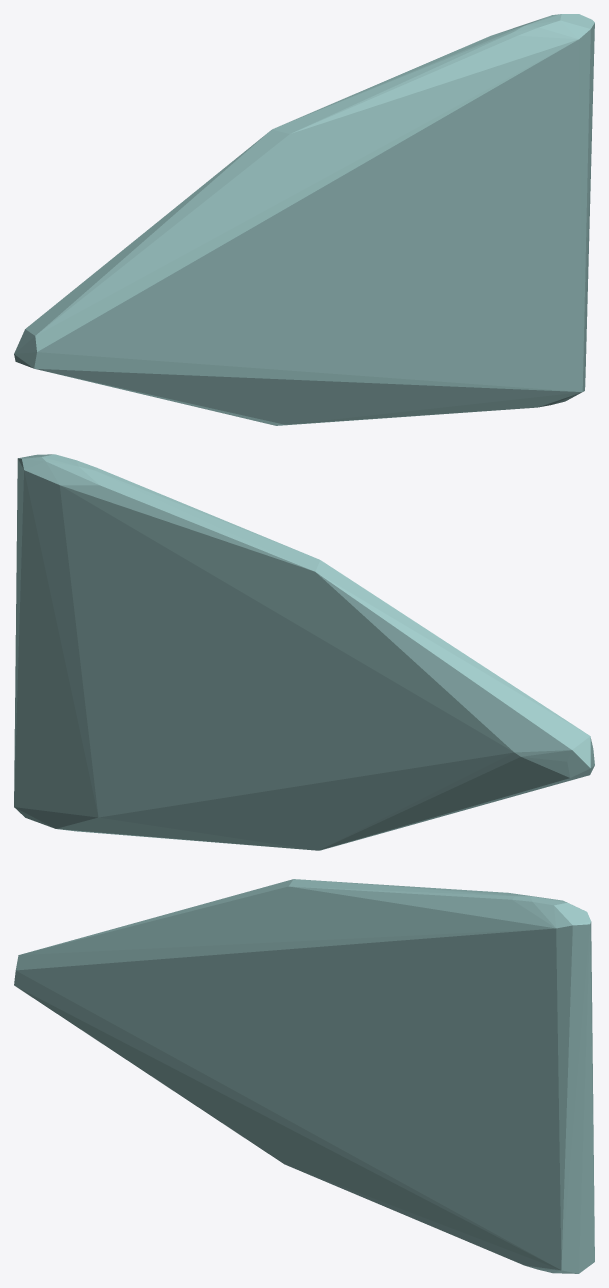
The model's file is instrument_bone_rongeurs_curved_b01.glb.
3 renders of one model, top to bottom at view 1: azimuth 30°, elevation 25°; view 2: azimuth 150°, elevation 25°; view 3: azimuth 330°, elevation 25°, orthographic. The views are drawn at different scales.
Visible parts, largest first — view 1: geometry_0; view 2: geometry_0; view 3: geometry_0.
Part boxes in pixels (x1,y1,x2,y2): geometry_0: [14, 14, 594, 425]; geometry_0: [14, 454, 594, 850]; geometry_0: [14, 879, 594, 1273].
Size of the model in its own units: 0.4756 by 0.2954 by 0.0479.
